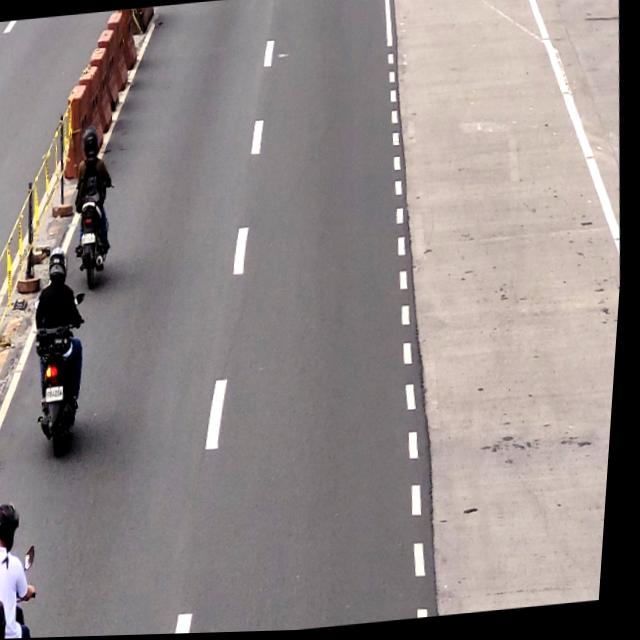Car: (25, 245, 99, 453), (68, 119, 124, 295), (0, 499, 47, 640)
License-Plate: (48, 385, 70, 404), (81, 233, 101, 245)
